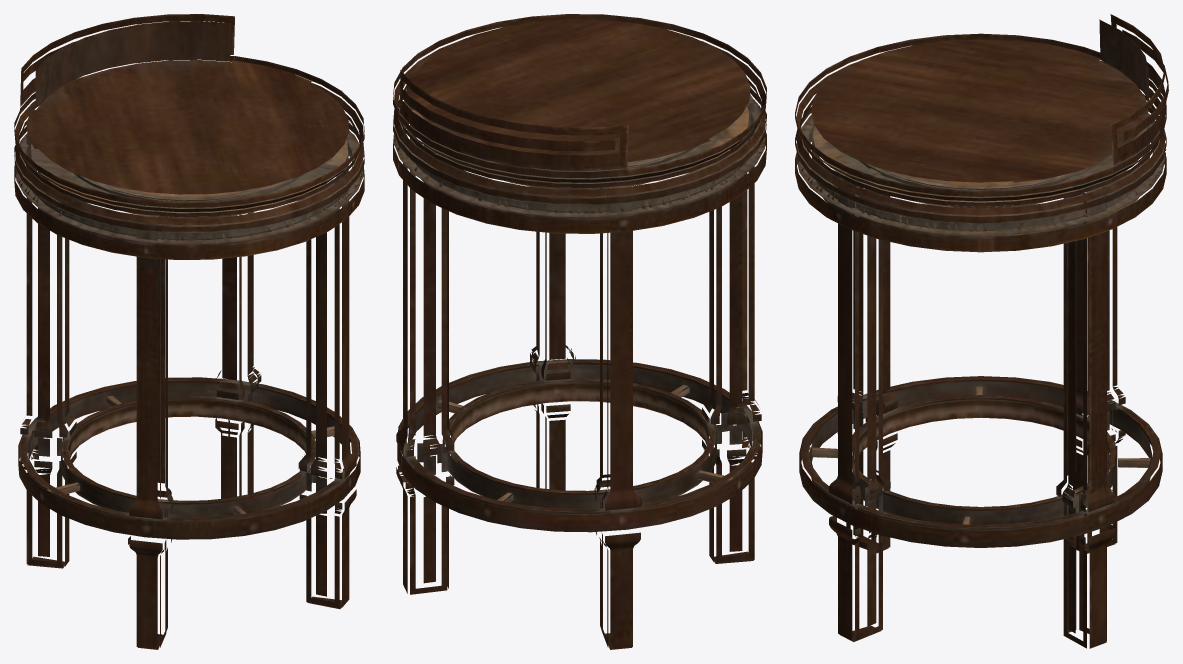
Rendered from bar_chair_round_01.glb.
3 renders of one model, left to right at view 1: azimuth 30°, elevation 25°; view 2: azimuth 150°, elevation 25°; view 3: azimuth 270°, elevation 25°, orthographic. The views are drawn at different scales.
Visible parts, largest first — view 1: bar_chair_round_01; view 2: bar_chair_round_01; view 3: bar_chair_round_01.
Boxes of the visible parts, bbox=[...] form: bar_chair_round_01: bbox=[14, 14, 364, 649]; bar_chair_round_01: bbox=[393, 14, 766, 649]; bar_chair_round_01: bbox=[795, 14, 1168, 648].
Bounding box in the file's own units: 0.4832 × 0.7493 × 0.486.
Materials: 1 (1 with a texture image).
